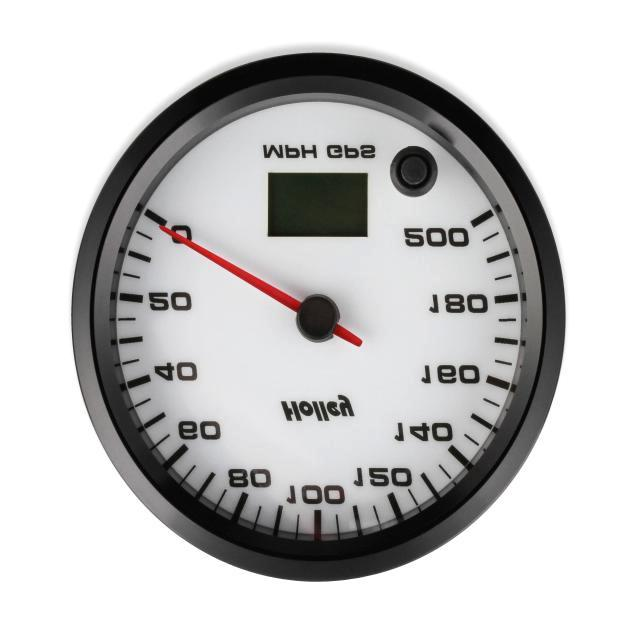Needle_Tip: (156, 222, 258, 283)
Needle_base: (281, 265, 369, 376)
max_value: (389, 211, 488, 260)
min_value: (154, 206, 210, 264)
